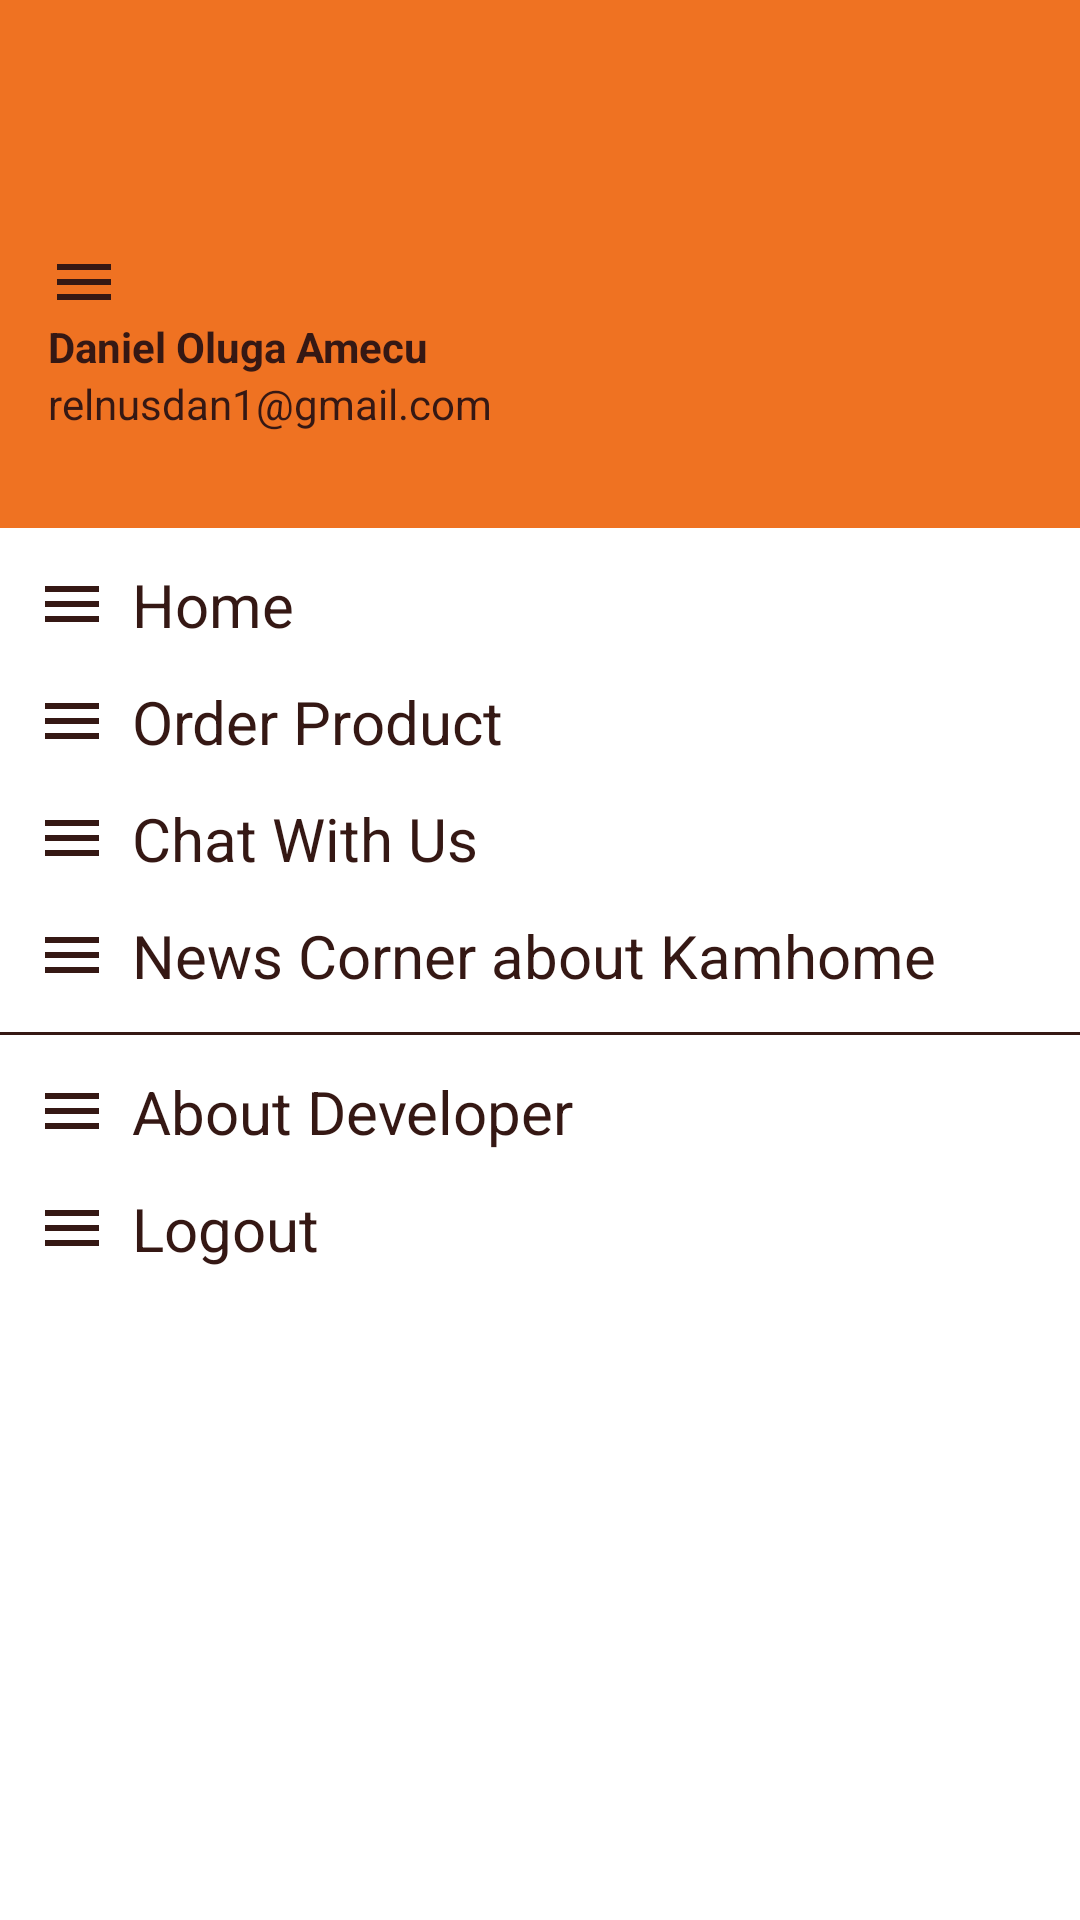

Where to tap for icons on this 1080w x 1920h app screen, as [x,y]:
menu: [84,282]
